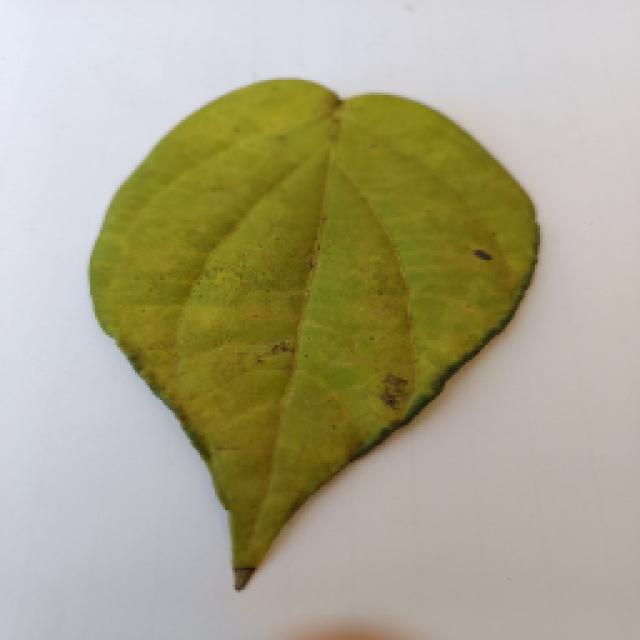slow-decline: (70, 80, 555, 598)
